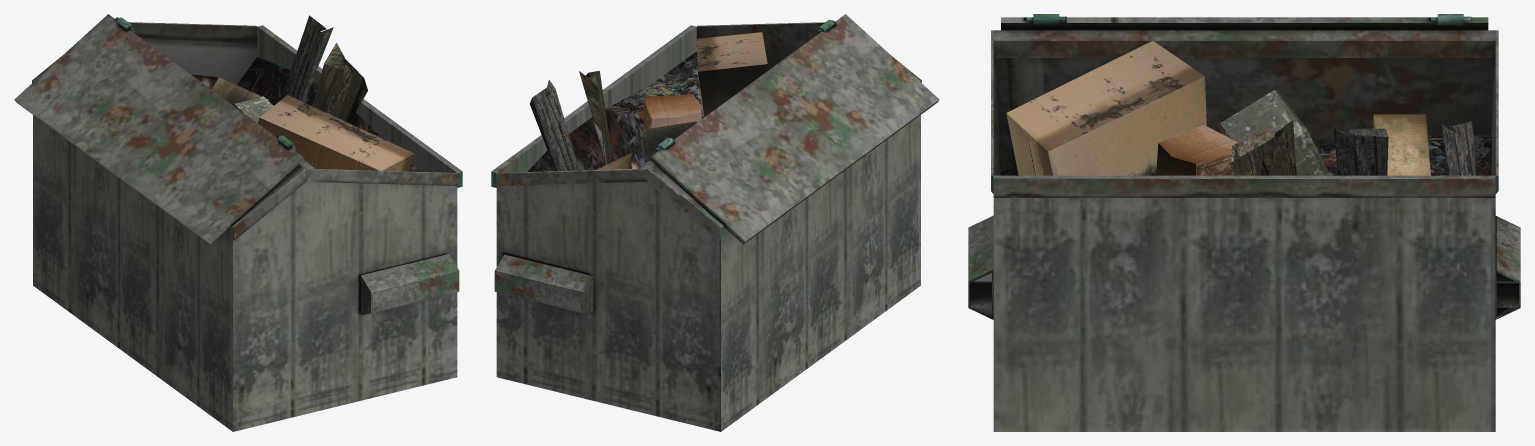
Rendered from cassonetto.glb.
3 views of the same model, side by side, from view 1: azimuth 30°, elevation 25°; view 2: azimuth 150°, elevation 25°; view 3: azimuth 270°, elevation 25° (orthographic). The views are drawn at different scales.
Parts seen in each view (by area): view 1: Cube, Cube.001, Cube.002, Cube.003, Plane; view 2: Cube, Cube.001, Plane, Cube.003, Cube.002; view 3: Cube, Cube.001, Cube.002, Cube.003, Plane, Cube.004.
Boxes of the visible parts, bbox=[...] form: Cube: bbox=[14, 14, 462, 431]; Cube.001: bbox=[191, 74, 414, 171]; Cube.002: bbox=[312, 42, 367, 123]; Cube.003: bbox=[281, 15, 333, 101]; Plane: bbox=[237, 57, 421, 171]; Cube: bbox=[491, 14, 939, 431]; Cube.001: bbox=[597, 32, 767, 169]; Plane: bbox=[527, 51, 703, 171]; Cube.003: bbox=[529, 79, 579, 171]; Cube.002: bbox=[579, 70, 610, 164]; Cube: bbox=[968, 14, 1520, 431]; Cube.001: bbox=[1006, 41, 1430, 175]; Cube.002: bbox=[1230, 120, 1296, 175]; Cube.003: bbox=[1334, 128, 1388, 175]; Plane: bbox=[1000, 133, 1491, 175]; Cube.004: bbox=[1441, 121, 1477, 175].
Size of the model in its own units: 2.3 by 2.21 by 3.4.
5 materials, 5 textured.
